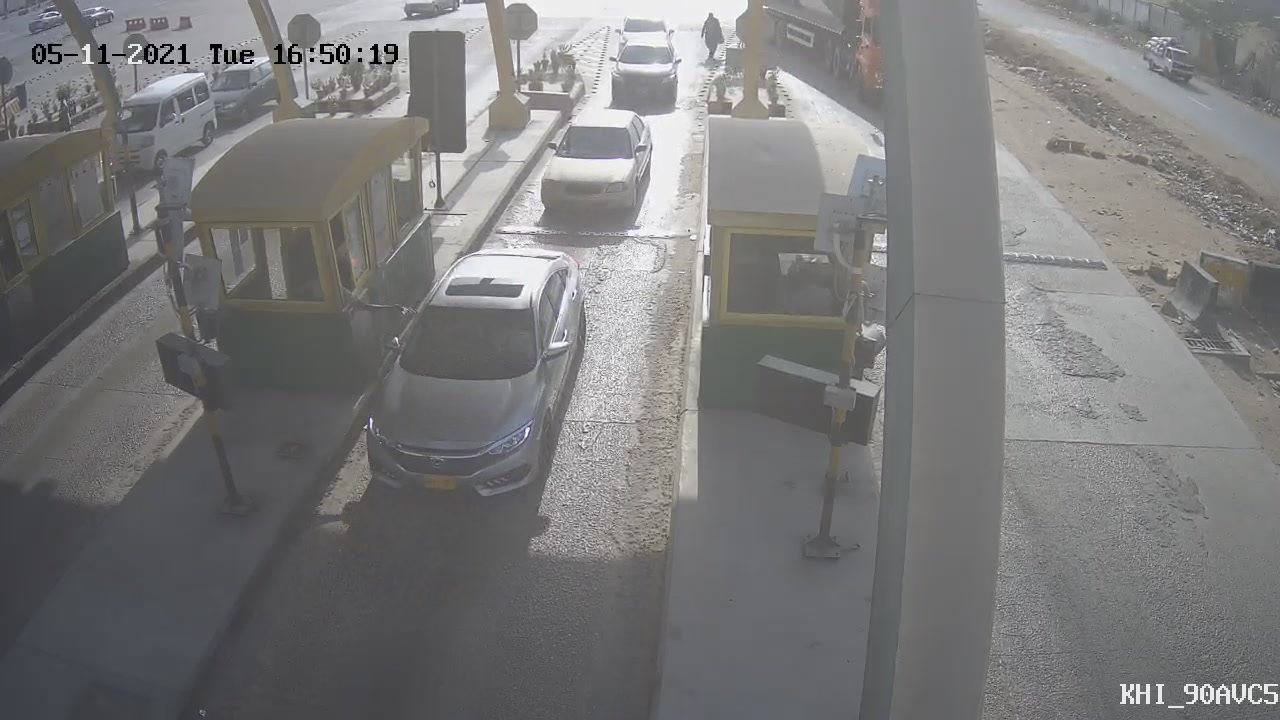F1: (338, 233, 607, 514), (524, 85, 673, 229)
